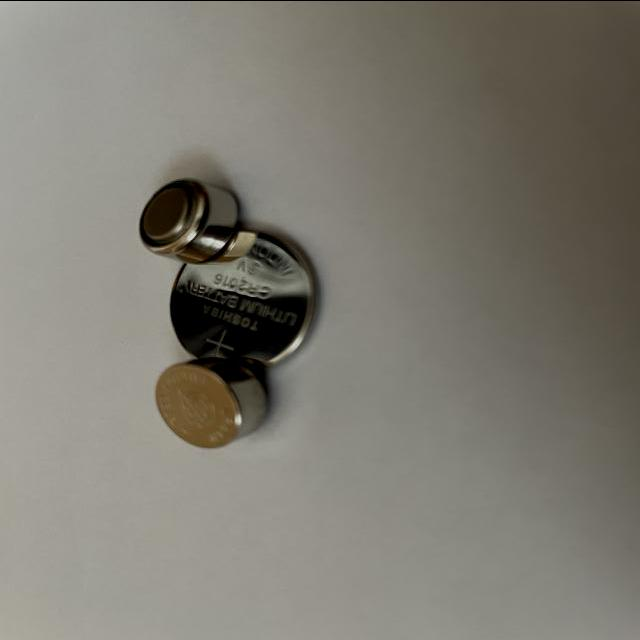COIN: (170, 228, 323, 367), (154, 355, 270, 448), (139, 176, 244, 262)
